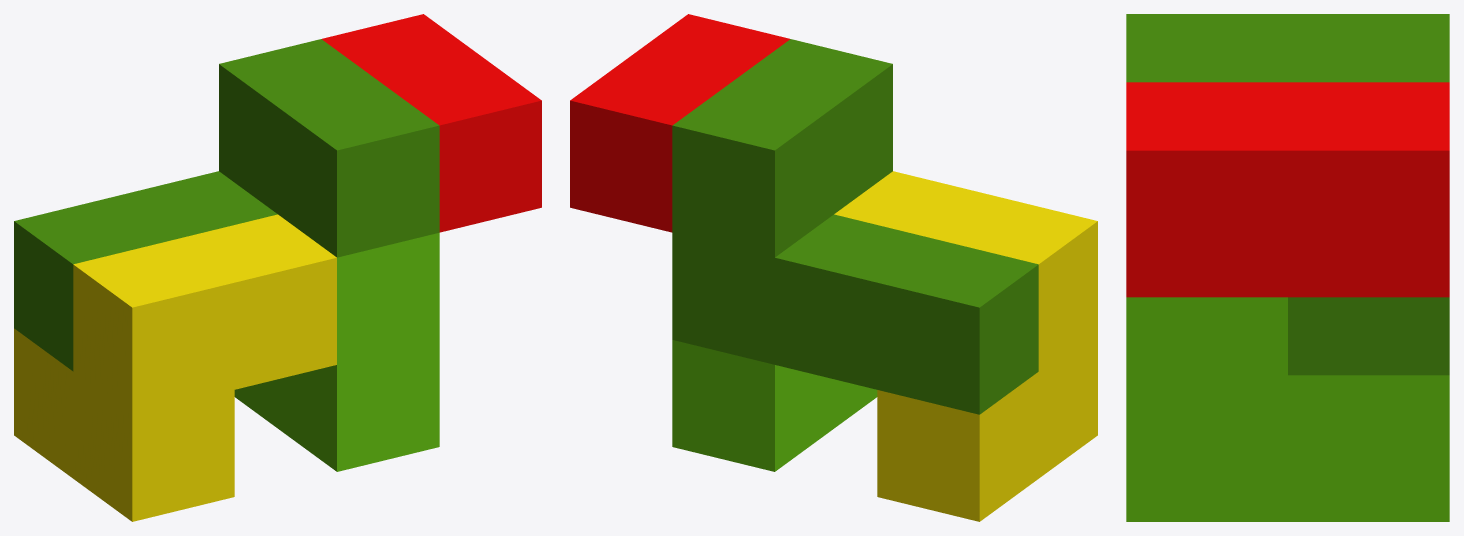
The picture shows the model from 3 angles, left to right: view 1: azimuth 30°, elevation 25°; view 2: azimuth 150°, elevation 25°; view 3: azimuth 270°, elevation 25°; orthographic projection. The views are drawn at different scales.
Visible parts, largest first — view 1: mergedBlocks(Clone); view 2: mergedBlocks(Clone); view 3: mergedBlocks(Clone).
Boxes of the visible parts, x1,y1,x2,y2 form: mergedBlocks(Clone): (14,14,541,521); mergedBlocks(Clone): (570,14,1097,521); mergedBlocks(Clone): (1126,14,1449,521).
Size of the model in its own units: 4 by 3 by 2.
Materials: 4 (4 with a texture image).
